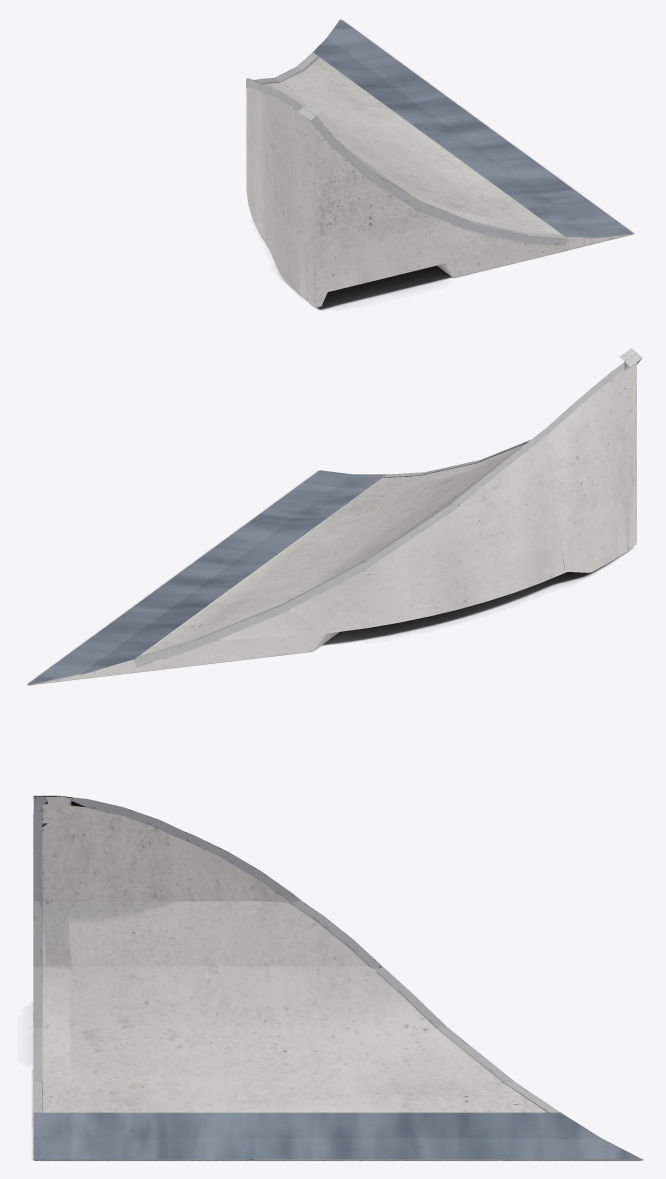
The model's file is cross-ramp-98l.gltf.
3 views of the same model, one above another, from view 1: azimuth 30°, elevation 25°; view 2: azimuth 150°, elevation 25°; view 3: azimuth 270°, elevation 25° (orthographic). The views are drawn at different scales.
Visible parts, largest first — view 1: SK1227_Cross-Ramp-_98L.001, Schatten; view 2: SK1227_Cross-Ramp-_98L.001, Schatten; view 3: SK1227_Cross-Ramp-_98L.001, Schatten.
Part boxes in pixels (x1=…): SK1227_Cross-Ramp-_98L.001: x1=246, y1=19, x2=632, y2=307; Schatten: x1=282, y1=20, x2=633, y2=309; SK1227_Cross-Ramp-_98L.001: x1=28, y1=348, x2=642, y2=685; Schatten: x1=27, y1=471, x2=632, y2=685; SK1227_Cross-Ramp-_98L.001: x1=33, y1=795, x2=642, y2=1160; Schatten: x1=32, y1=1069, x2=642, y2=1160.
Size of the model in its own units: 1.64 by 0.94 by 2.62.
4 materials, 4 textured.
